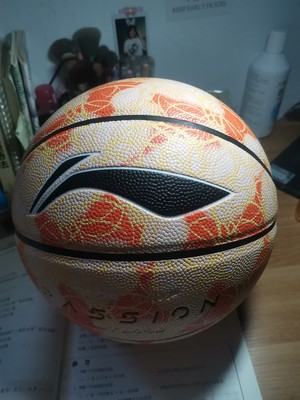ball: (11, 77, 280, 347)
